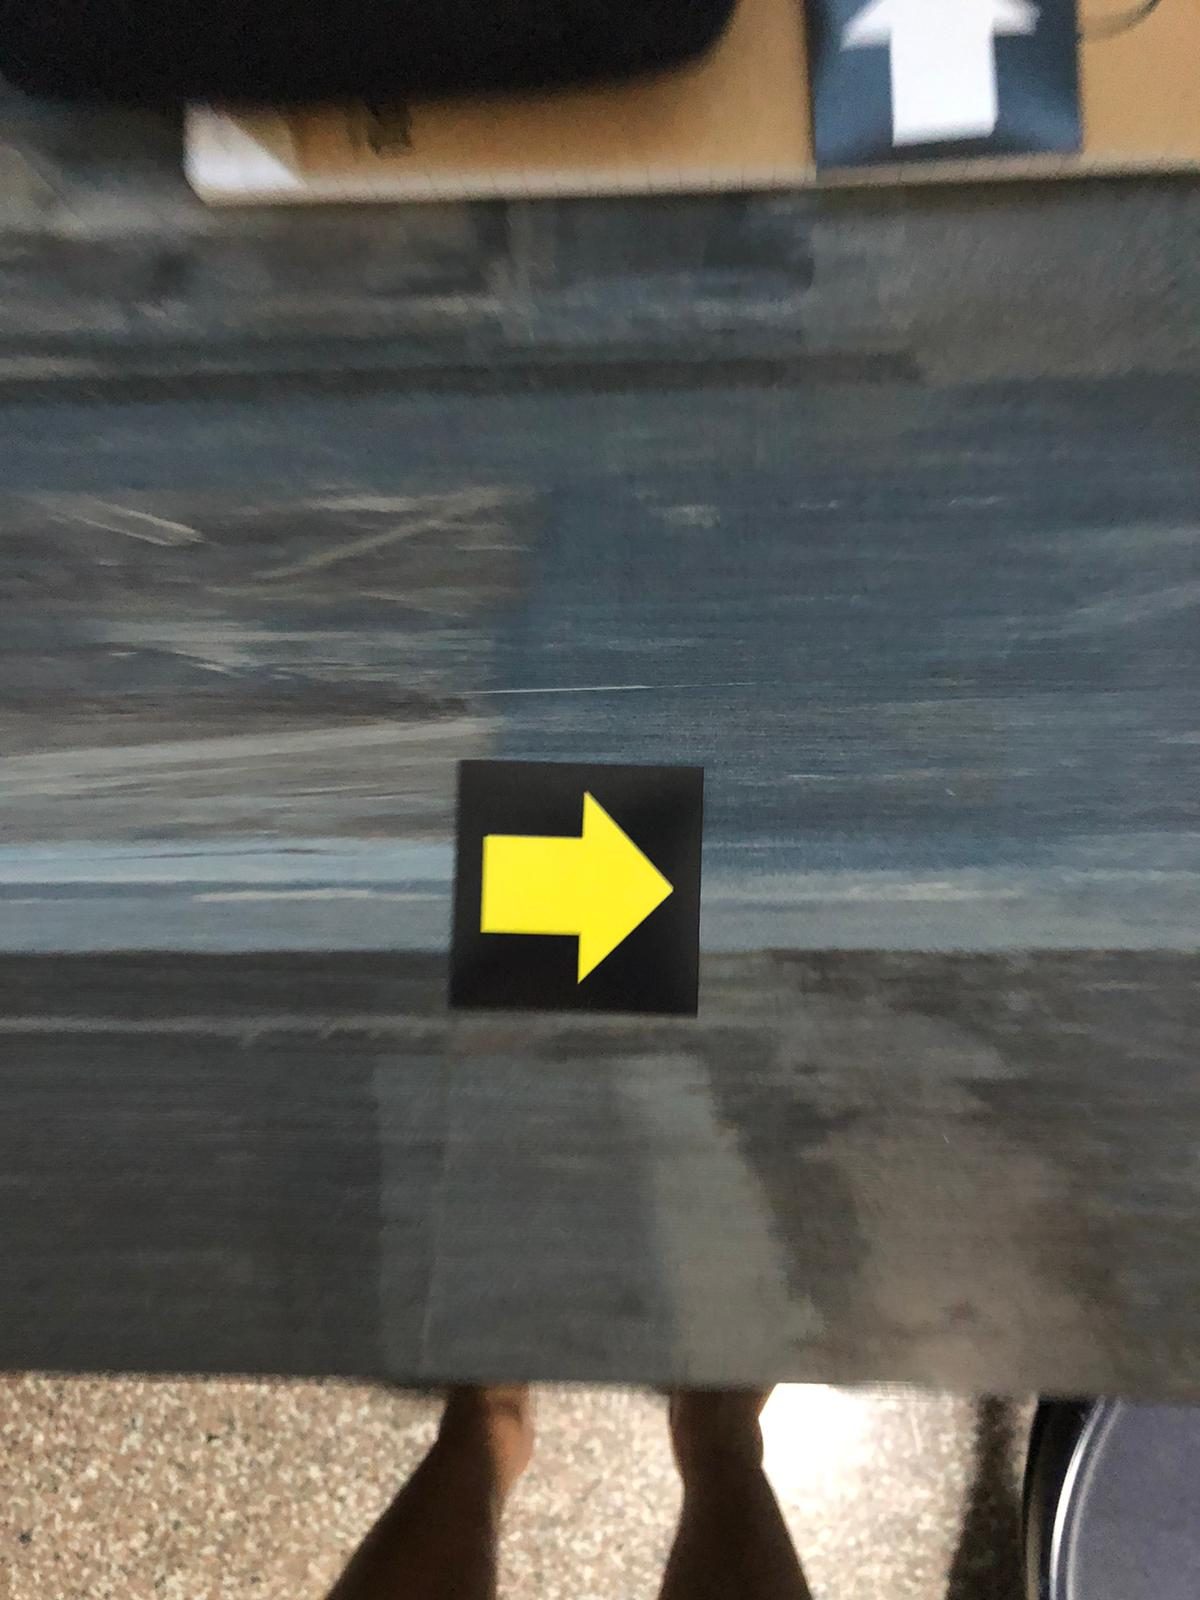Right Arrow: (449, 760, 705, 1005)
